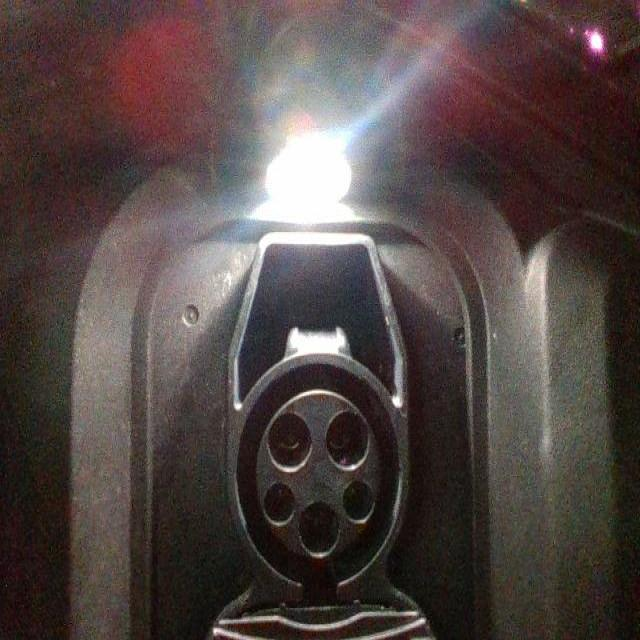Type 1: (235, 357, 402, 585)
